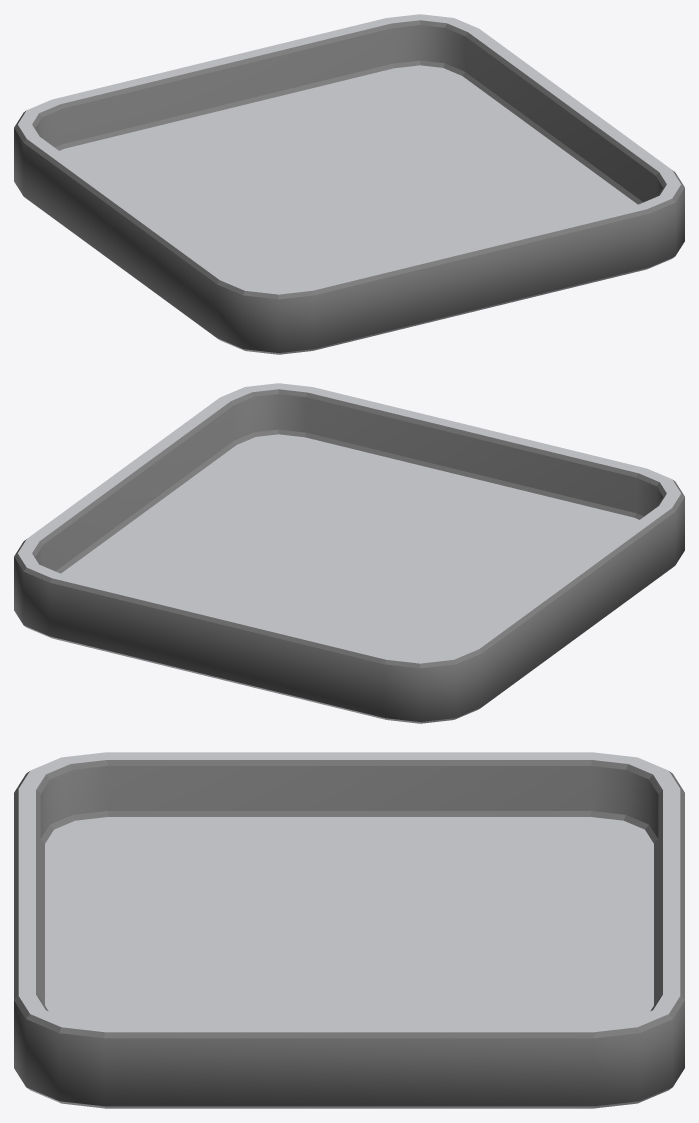
The model's file is Tray.fbx.
The picture shows the model from 3 angles, top to bottom: view 1: azimuth 30°, elevation 25°; view 2: azimuth 150°, elevation 25°; view 3: azimuth 270°, elevation 25°; orthographic projection. The views are drawn at different scales.
Visible parts, largest first — view 1: Tray; view 2: Tray; view 3: Tray.
Boxes of the visible parts, x1,y1,x2,y2 form: Tray: (14,14,684,354); Tray: (14,383,684,723); Tray: (14,752,684,1108).
Bounding box in the file's own units: 59.26 × 7.43 × 59.26.
Materials: 1 (1 with a texture image).
